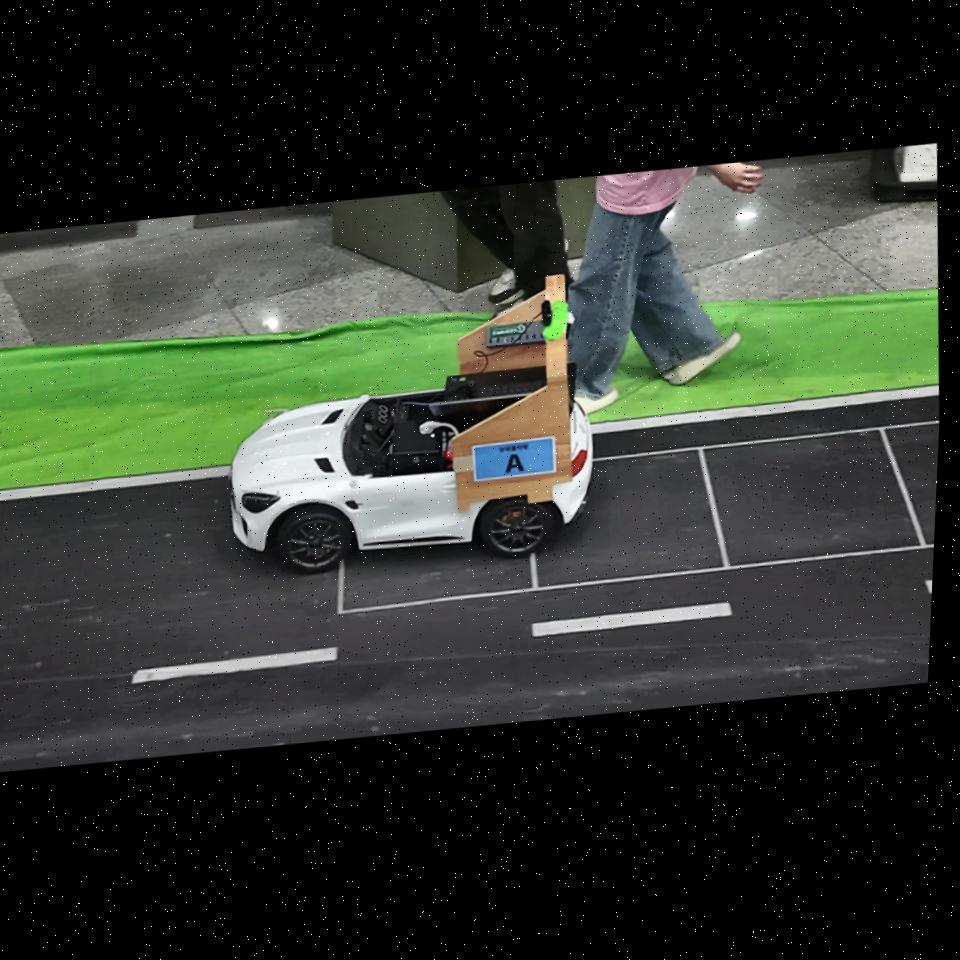broken_line: (132, 647, 338, 684), (532, 602, 732, 637), (925, 580, 932, 593)
